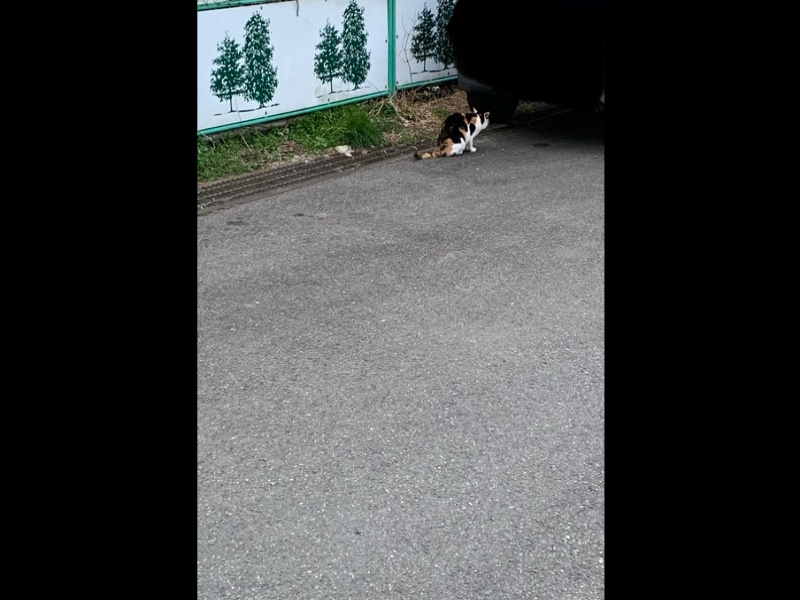cat: (412, 106, 491, 166)
